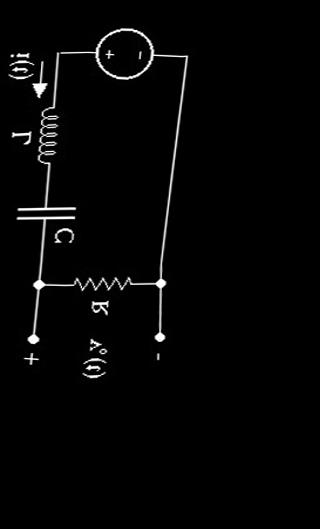Battery: (76, 12, 166, 98)
